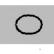no answer: (14, 12, 44, 36)
